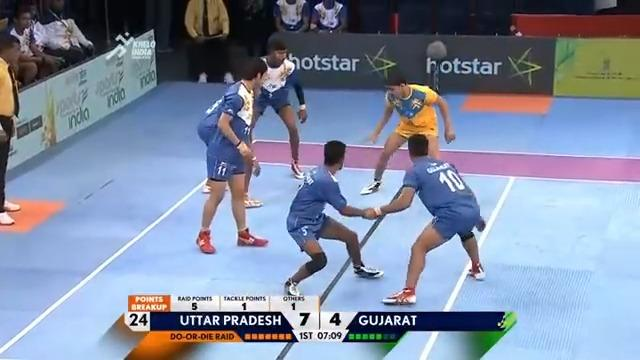Player: (370, 132, 486, 305), (283, 139, 384, 296), (195, 56, 269, 253), (245, 39, 308, 179), (272, 0, 310, 33)
Raider: (359, 73, 455, 195)
referee: (183, 0, 230, 83)
